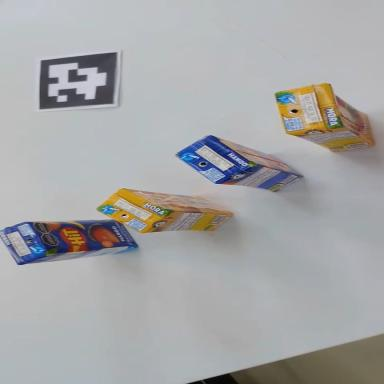HIT-MANGO: (172, 127, 305, 210), (0, 210, 138, 266)
HIT-MORA: (275, 78, 375, 159), (95, 186, 234, 243)
